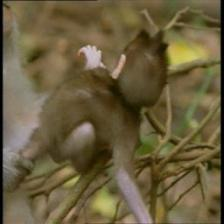monkey: (2, 1, 18, 44)
